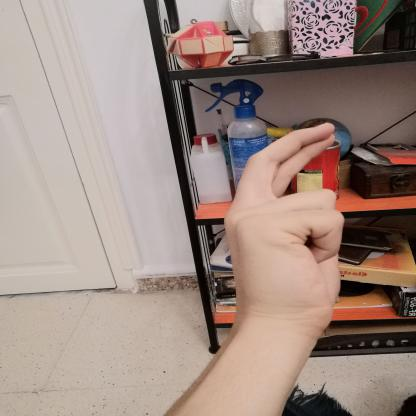ZAY: (213, 114, 349, 334)
